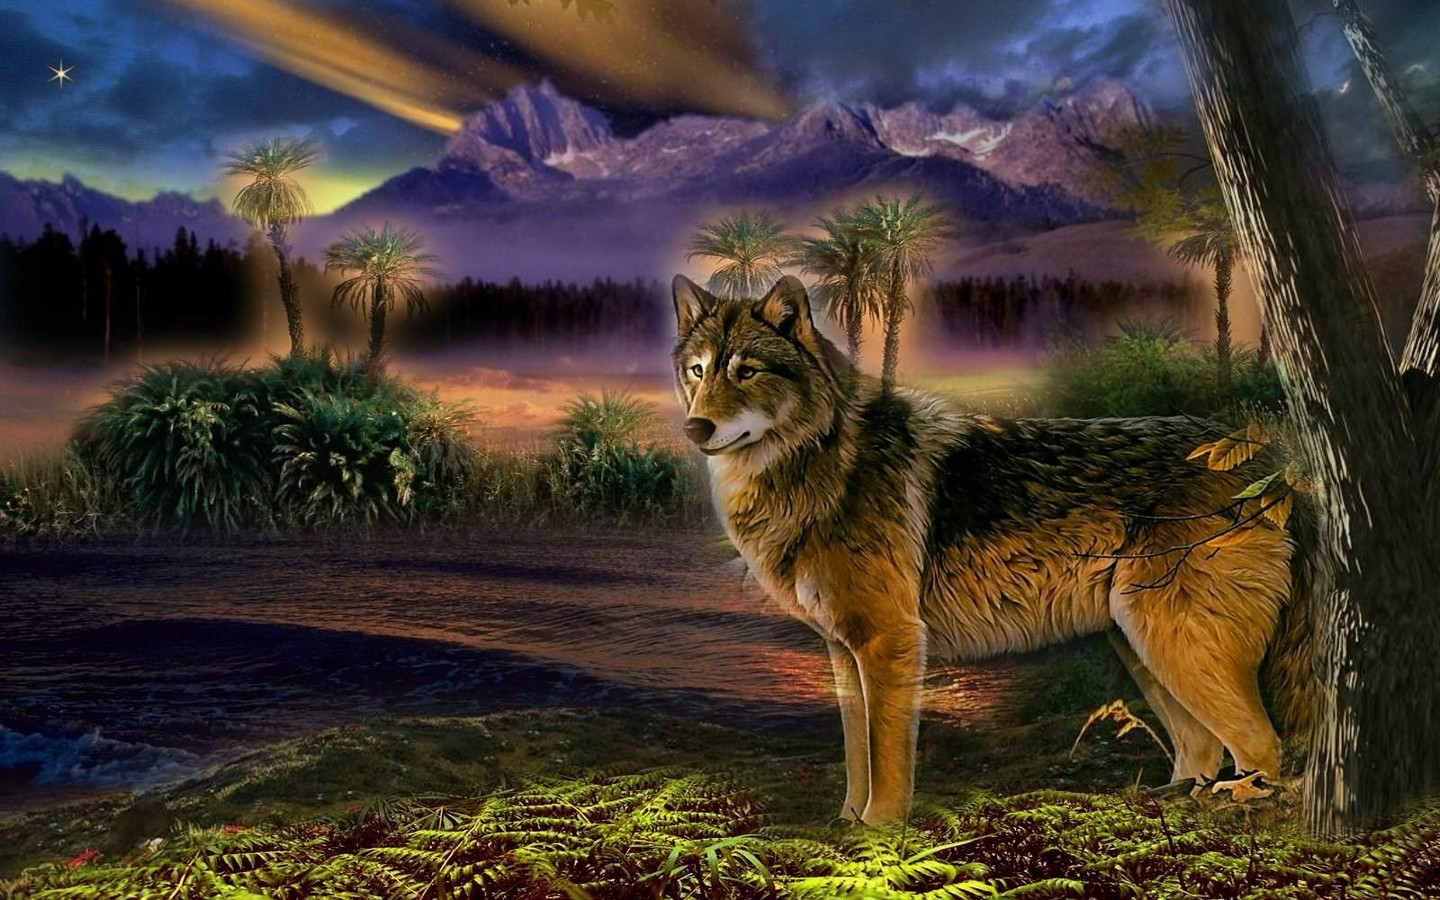Lobo: (647, 249, 1370, 837)
